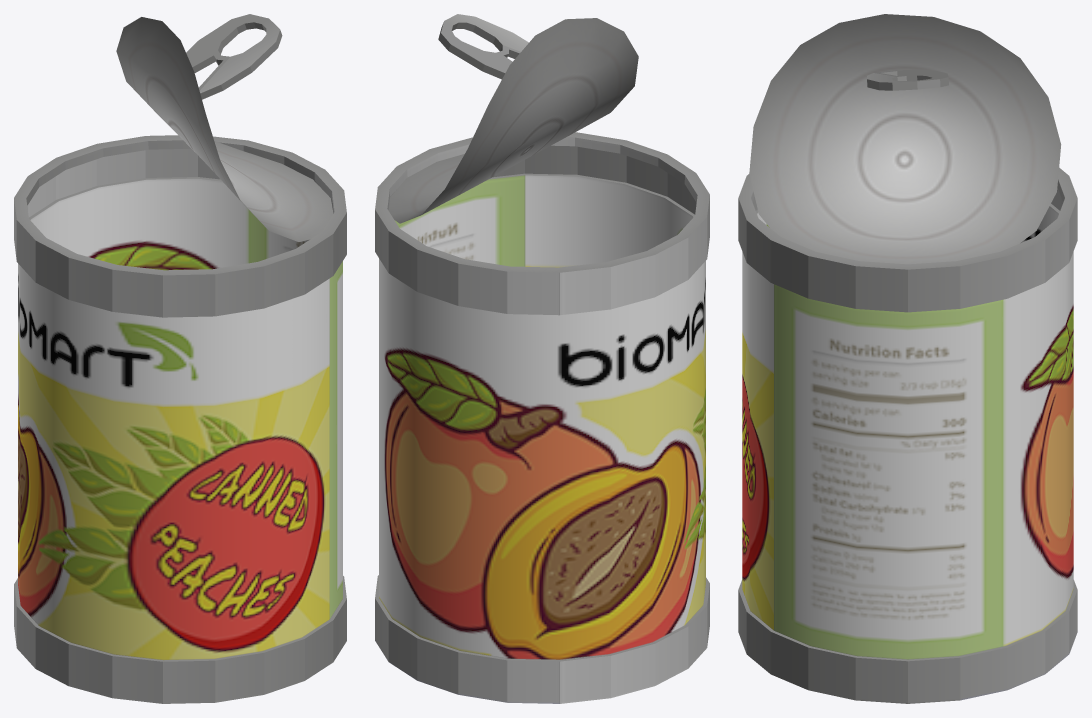
The model's file is biomart open can.fbx.
The picture shows the model from 3 angles, left to right: view 1: azimuth 30°, elevation 25°; view 2: azimuth 150°, elevation 25°; view 3: azimuth 270°, elevation 25°; orthographic projection.
Visible parts, largest first — view 1: polySurface206; view 2: polySurface206; view 3: polySurface206.
Part boxes in pixels (x1,y1,x2,y2): polySurface206: (14,14,346,703); polySurface206: (375,14,709,703); polySurface206: (738,14,1077,703).
Size of the model in its own units: 0.1753 by 0.3493 by 0.1753.
